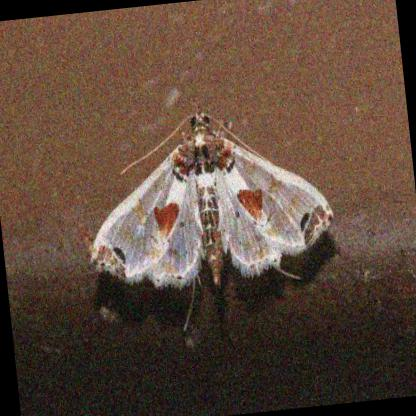leucinodes: (90, 112, 334, 289)
